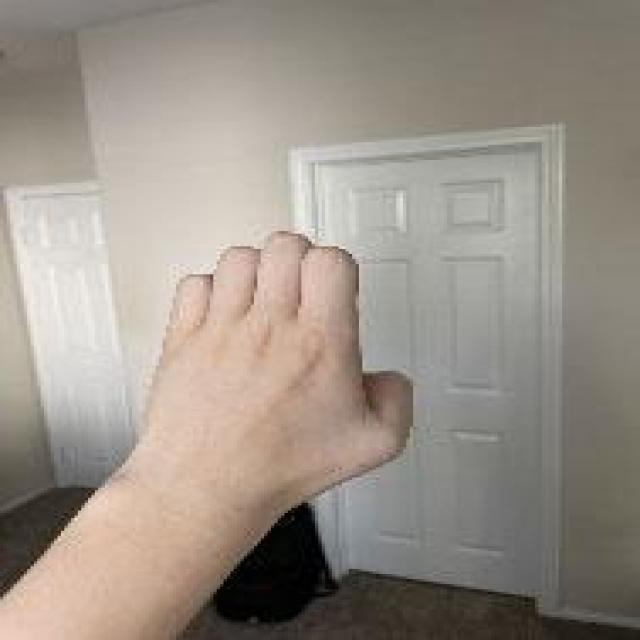E: (135, 226, 420, 477)
